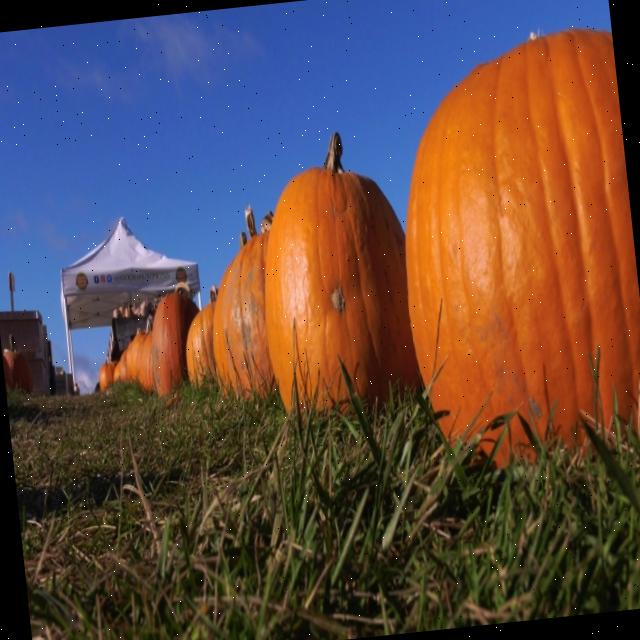pumpkin: (405, 29, 640, 442), (264, 134, 418, 408), (213, 205, 275, 397), (151, 293, 198, 397), (185, 301, 216, 384), (3, 334, 33, 391), (125, 331, 146, 382), (136, 333, 154, 391), (113, 349, 128, 381), (99, 361, 115, 388), (2, 353, 14, 387)
